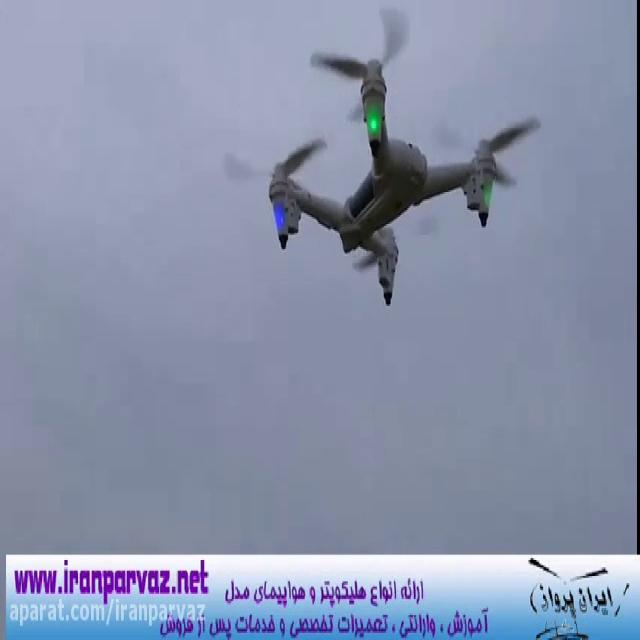drone: (217, 0, 544, 311)
